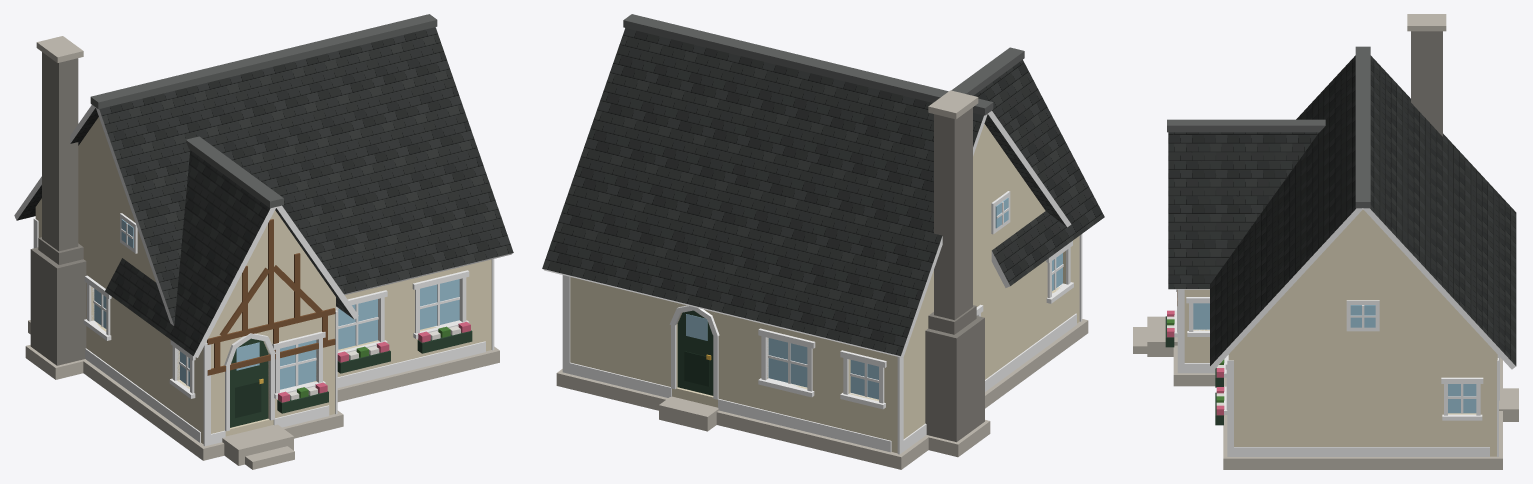
Rendered from base-08-level1.glb.
3 views of the same model, side by side, from view 1: azimuth 30°, elevation 25°; view 2: azimuth 150°, elevation 25°; view 3: azimuth 270°, elevation 25° (orthographic). The views are drawn at different scales.
Parts seen in each view (by area): view 1: base_house_8_finished; view 2: base_house_8_finished; view 3: base_house_8_finished.
Part boxes in pixels (x1,y1,x2,y2): base_house_8_finished: (14, 14, 513, 469); base_house_8_finished: (542, 14, 1104, 469); base_house_8_finished: (1133, 14, 1518, 469).
Bounding box in the file's own units: 10.99 × 9.29 × 10.9.
Materials: 15 (1 with a texture image).
